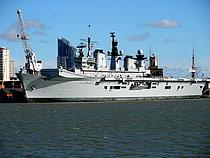MIL_Ship: (14, 31, 210, 102)
